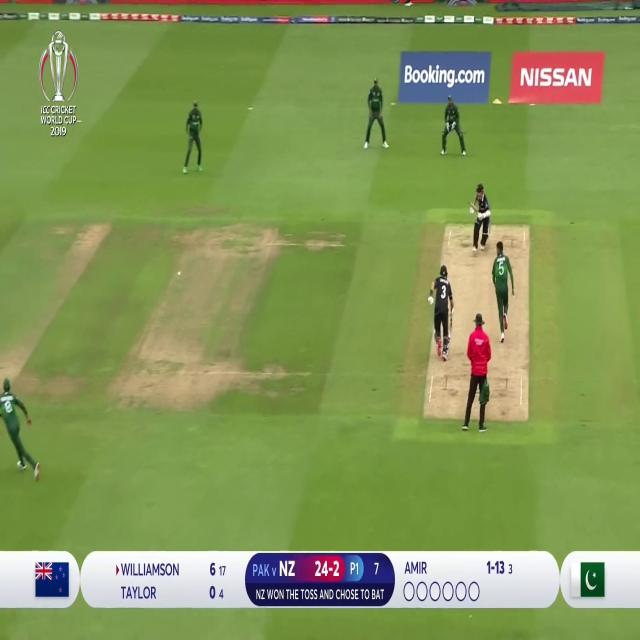bat: (449, 308, 454, 337), (468, 202, 478, 213)
